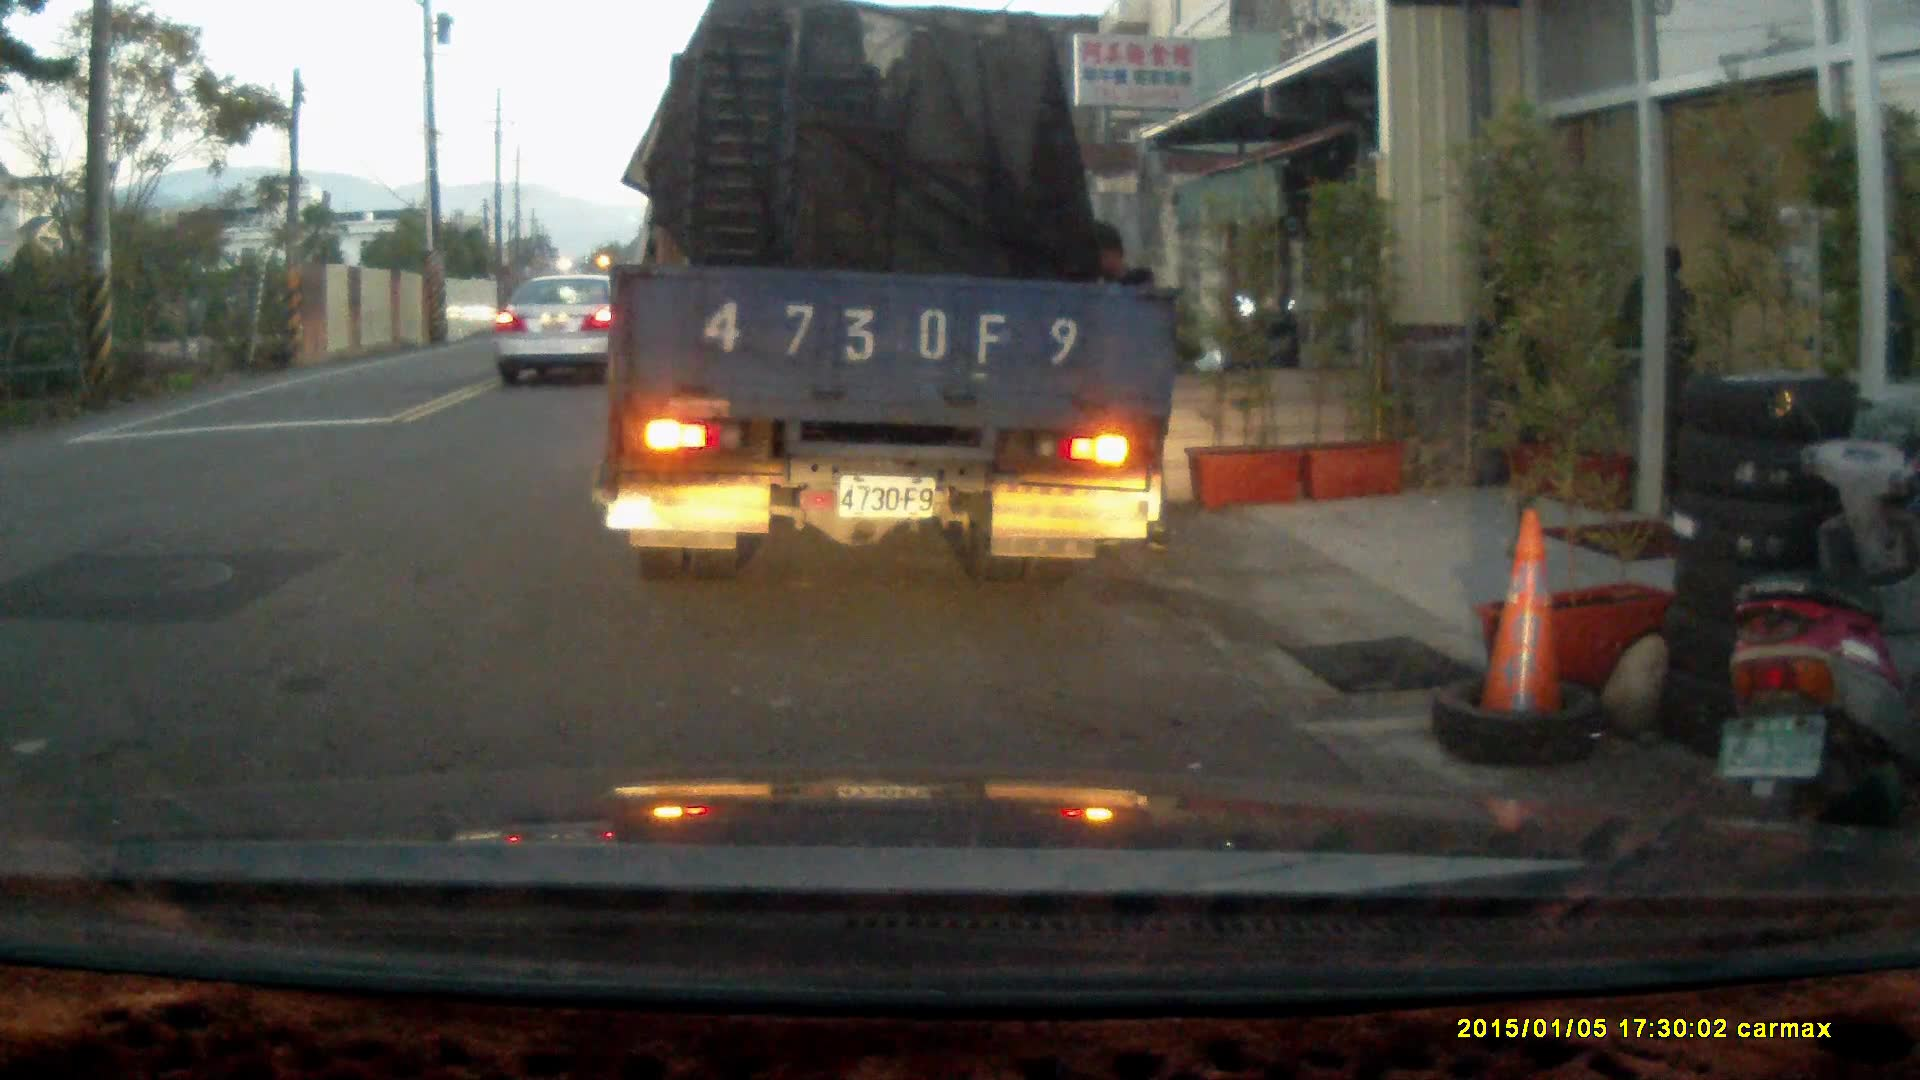pedestrian: (1075, 221, 1174, 554), (1609, 235, 1690, 480)
vehicle: (605, 23, 1188, 572), (495, 269, 629, 383)
